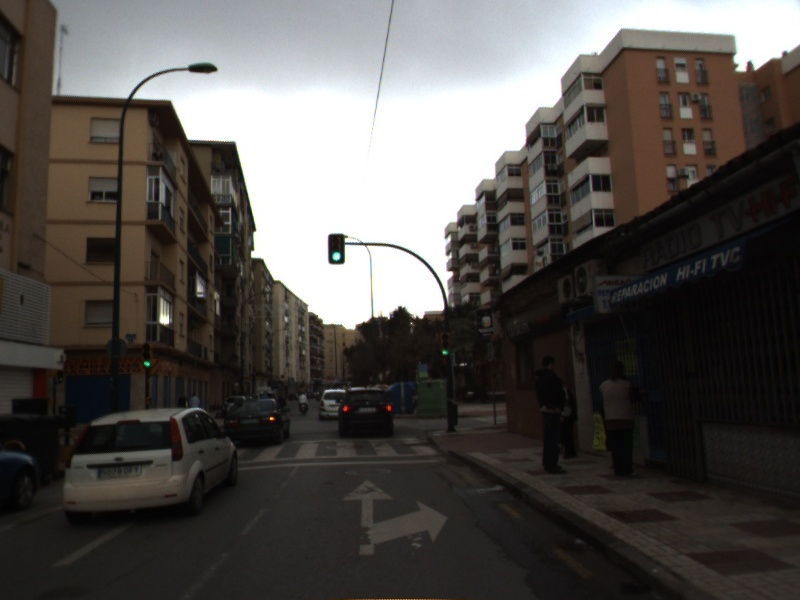STRAIGHT_RIGHT: (340, 477, 451, 557)
